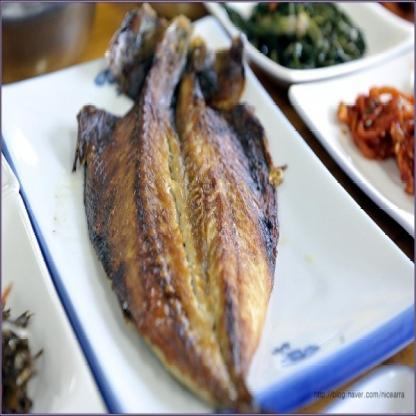Peixe: (72, 3, 286, 416)
